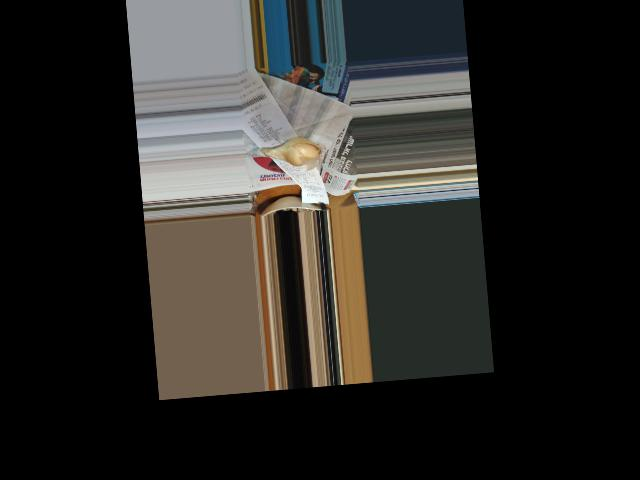onion: (262, 133, 320, 169)
